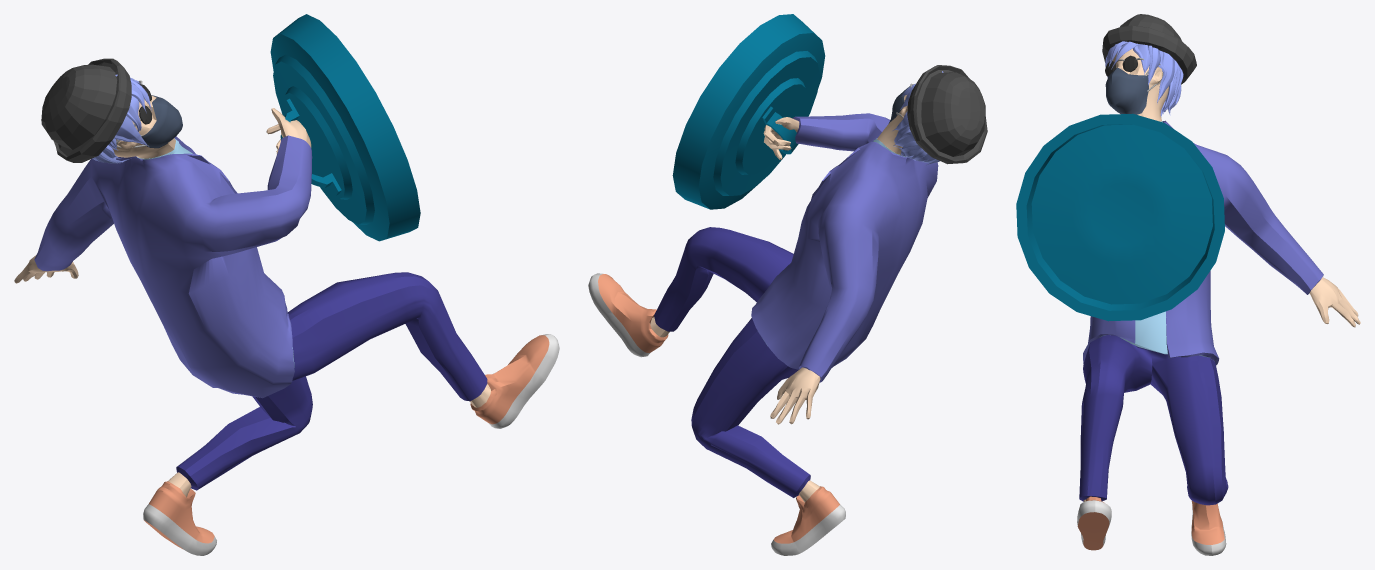
File: Mahler.fbx
3 renders of one model, left to right at view 1: azimuth 30°, elevation 25°; view 2: azimuth 150°, elevation 25°; view 3: azimuth 270°, elevation 25°, orthographic. The views are drawn at different scales.
Parts seen in each view (by area): view 1: Malher_low, TrashCanLid:Lid_low, Hat_low, Hari_low; view 2: Malher_low, TrashCanLid:Lid_low, Hat_low, Hari_low, TrashCanLid:Handle_low; view 3: TrashCanLid:Lid_low, Malher_low, Hat_low, Hari_low.
Boxes of the visible parts, x1,y1,x2,y2 form: Malher_low: [14, 95, 559, 555]; TrashCanLid:Lid_low: [270, 14, 420, 241]; Hat_low: [41, 58, 131, 162]; Hari_low: [92, 74, 151, 163]; Malher_low: [588, 86, 938, 555]; TrashCanLid:Lid_low: [672, 14, 825, 209]; Hat_low: [907, 65, 987, 164]; Hari_low: [892, 71, 943, 165]; TrashCanLid:Handle_low: [762, 106, 798, 154]; TrashCanLid:Lid_low: [1016, 113, 1224, 321]; Malher_low: [1077, 48, 1360, 555]; Hat_low: [1102, 14, 1196, 84]; Hari_low: [1105, 41, 1183, 116].
Size of the model in its own units: 141 by 155 by 102.
